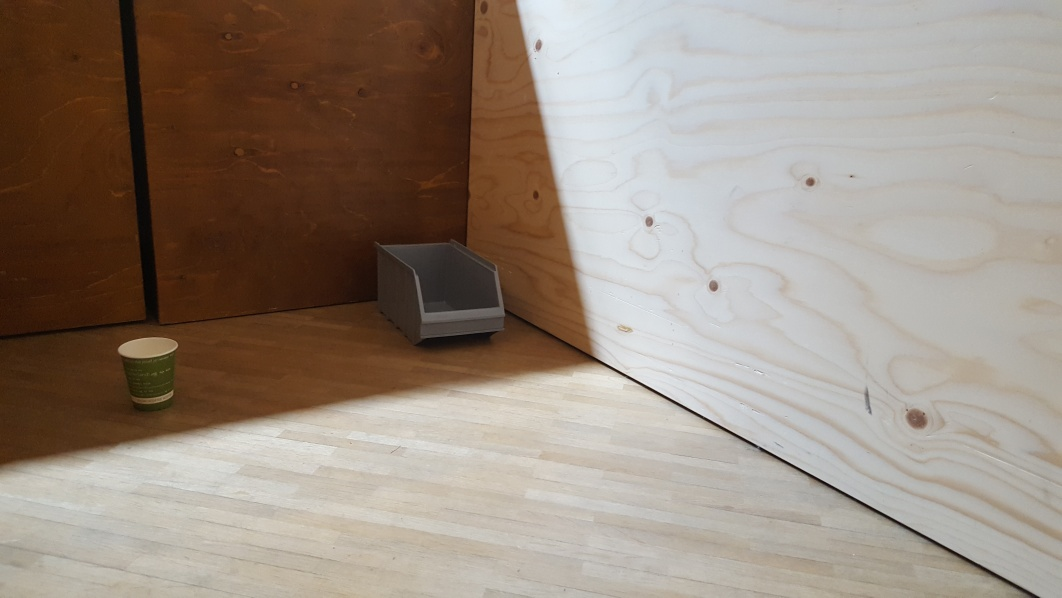cup: (121, 336, 180, 414)
tray: (367, 235, 512, 346)
